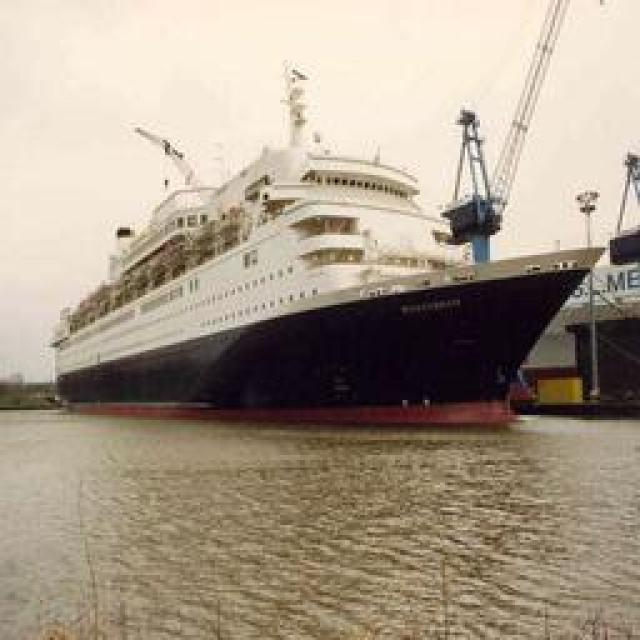CIV_Ship: (60, 65, 590, 415)
